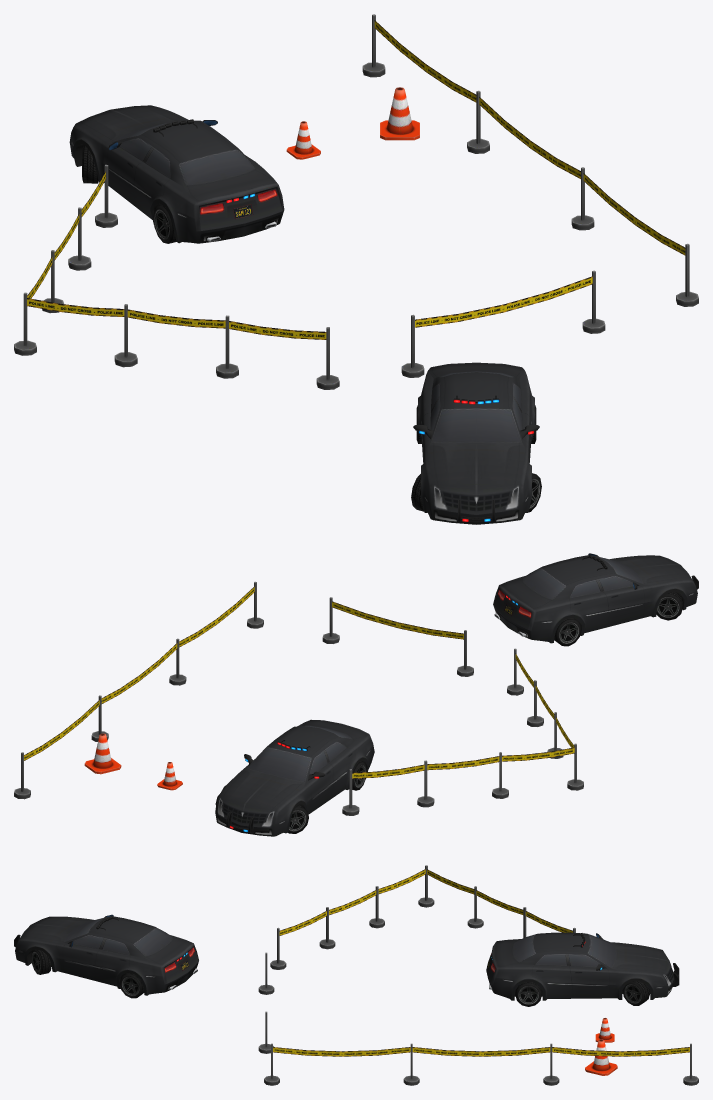
The model's file is cars.gltf.
The picture shows the model from 3 angles, top to bottom: view 1: azimuth 30°, elevation 25°; view 2: azimuth 150°, elevation 25°; view 3: azimuth 270°, elevation 25°; orthographic projection. The views are drawn at different scales.
Parts seen in each view (by area): view 1: node_Interceptor_2A_-23914, node_Interceptor_2A (1)_-23560, node_Police_Tape_1B_-24786, node_Traffic_Cone (1)_-24230, node_Police_Tape_1B_-24036, node_Police_Tape_1B_-25454, node_Police_Tape_1B_-24148, node_Police_Tape_1A_-24750, node_Police_Tape_1A_-26066, node_Police_Tape_1A_-26028; view 2: node_Interceptor_2A (1)_-23560, node_Interceptor_2A_-23914, node_Police_Tape_1B_-24786, node_Traffic_Cone (1)_-24230, node_Wheel_Front_R_-23542, node_Wheel_Rear_R_-23572, node_Police_Tape_1B_-24148, node_Police_Tape_1B_-25454, node_Police_Tape_1B_-24036, node_Police_Tape_1A_-24874, node_Police_Tape_1A_-25044, node_Police_Tape_1A_-25786; view 3: node_Interceptor_2A_-23914, node_Interceptor_2A (1)_-23560, node_Police_Tape_1B_-24148, node_Police_Tape_1B_-25454, node_Police_Tape_1B_-24036, node_Traffic_Cone (1)_-24230, node_Wheel_Rear_R_-23926, node_Wheel_Front_R_-23896, node_Wheel_Rear_L_-23582, node_Wheel_Front_L_-23562.
Boxes of the visible parts, bbox=[...] form: node_Interceptor_2A_-23914: bbox=[69, 105, 284, 243]; node_Interceptor_2A (1)_-23560: bbox=[413, 362, 539, 524]; node_Police_Tape_1B_-24786: bbox=[415, 276, 592, 327]; node_Traffic_Cone (1)_-24230: bbox=[380, 87, 419, 140]; node_Police_Tape_1B_-24036: bbox=[374, 20, 476, 102]; node_Police_Tape_1B_-25454: bbox=[583, 173, 685, 255]; node_Police_Tape_1B_-24148: bbox=[479, 97, 580, 178]; node_Police_Tape_1A_-24750: bbox=[127, 309, 225, 328]; node_Police_Tape_1A_-26066: bbox=[229, 321, 326, 339]; node_Police_Tape_1A_-26028: bbox=[27, 298, 124, 316]; node_Interceptor_2A (1)_-23560: bbox=[493, 553, 698, 643]; node_Interceptor_2A_-23914: bbox=[215, 719, 374, 836]; node_Police_Tape_1B_-24786: bbox=[332, 601, 463, 639]; node_Traffic_Cone (1)_-24230: bbox=[84, 733, 121, 774]; node_Wheel_Front_R_-23542: bbox=[656, 592, 683, 620]; node_Wheel_Rear_R_-23572: bbox=[554, 618, 581, 646]; node_Police_Tape_1B_-24148: bbox=[101, 643, 177, 703]; node_Police_Tape_1B_-25454: bbox=[179, 586, 254, 647]; node_Police_Tape_1B_-24036: bbox=[24, 700, 99, 760]; node_Police_Tape_1A_-24874: bbox=[352, 764, 424, 778]; node_Police_Tape_1A_-25044: bbox=[502, 747, 574, 761]; node_Police_Tape_1A_-25786: bbox=[427, 756, 499, 770]; node_Interceptor_2A_-23914: bbox=[486, 932, 679, 1000]; node_Interceptor_2A (1)_-23560: bbox=[14, 914, 198, 995]; node_Police_Tape_1B_-24148: bbox=[412, 1047, 550, 1056]; node_Police_Tape_1B_-25454: bbox=[273, 1047, 410, 1056]; node_Police_Tape_1B_-24036: bbox=[552, 1047, 689, 1056]; node_Traffic_Cone (1)_-24230: bbox=[585, 1039, 617, 1075]; node_Wheel_Rear_R_-23926: bbox=[515, 982, 542, 1006]; node_Wheel_Front_R_-23896: bbox=[622, 981, 649, 1005]; node_Wheel_Rear_L_-23582: bbox=[119, 973, 143, 998]; node_Wheel_Front_L_-23562: bbox=[31, 949, 51, 974].
Bounding box in the file's own units: 12.53 × 1.62 × 19.62.
Materials: 1 (1 with a texture image).
